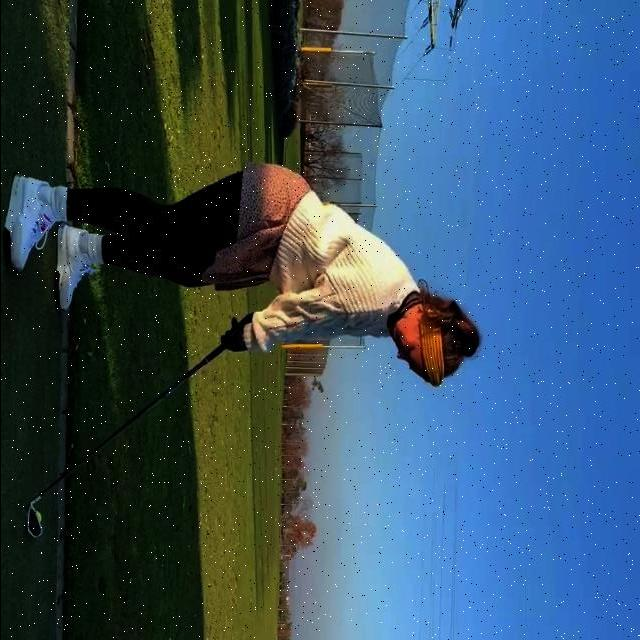golf ball: (34, 510, 40, 522)
golf club-handle: (25, 344, 225, 539)
golf club-head: (25, 505, 42, 539)
